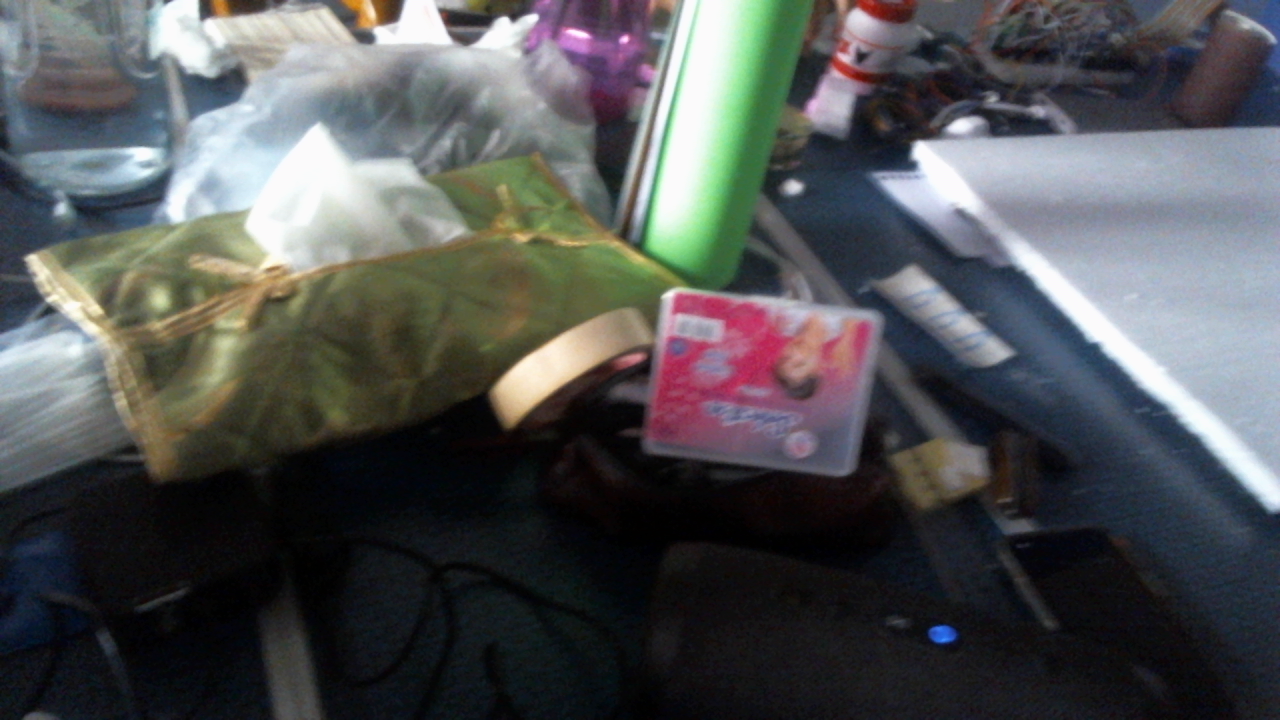Selection: (604, 264, 919, 501)
